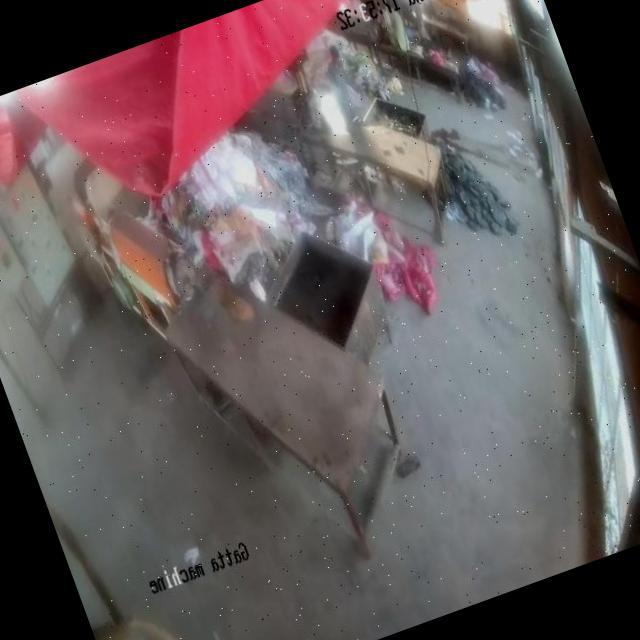person: (318, 44, 362, 124), (382, 0, 413, 51)
